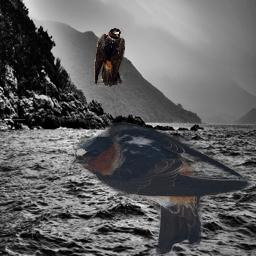Swallow: (70, 120, 252, 256), (94, 28, 125, 87)
